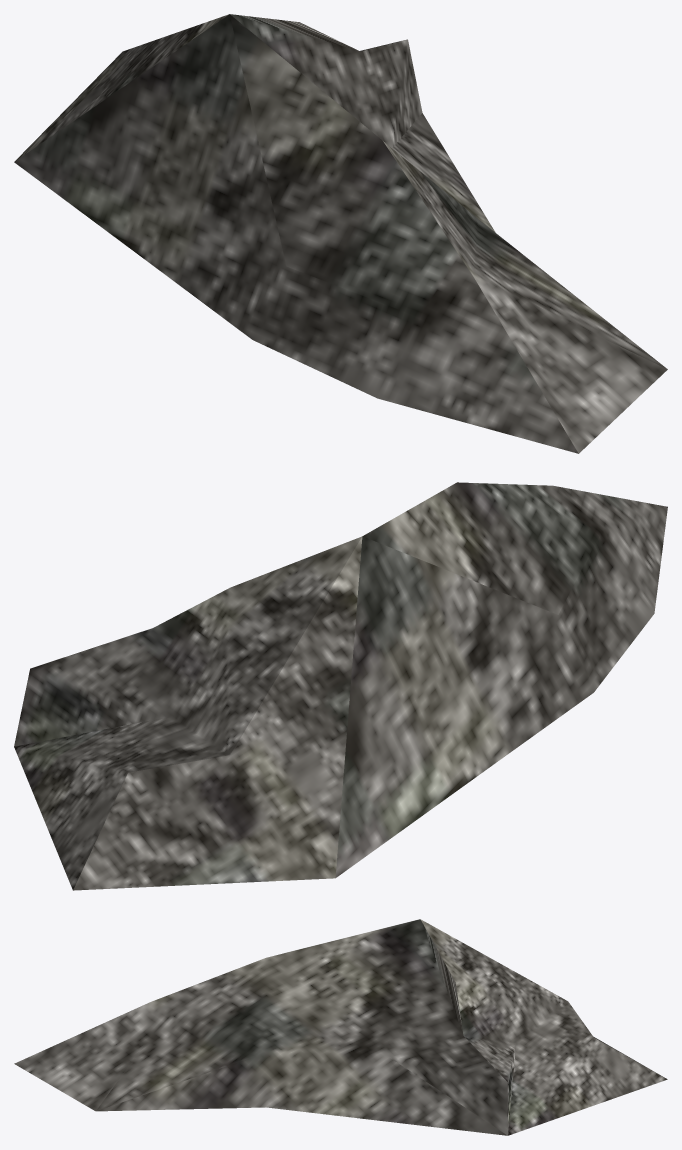
The model's file is rock_shoreline_la_d.glb.
The picture shows the model from 3 angles, top to bottom: view 1: azimuth 30°, elevation 25°; view 2: azimuth 150°, elevation 25°; view 3: azimuth 270°, elevation 25°; orthographic projection. The views are drawn at different scales.
Parts seen in each view (by area): view 1: rock_shoreline_la_d; view 2: rock_shoreline_la_d; view 3: rock_shoreline_la_d.
Boxes of the visible parts, box(x1,y1,x2,y2) form: rock_shoreline_la_d: box(14, 14, 667, 453); rock_shoreline_la_d: box(14, 482, 667, 890); rock_shoreline_la_d: box(14, 919, 667, 1135).
Bounding box in the file's own units: 3.07 × 1.73 × 7.58.
Materials: 1 (1 with a texture image).
